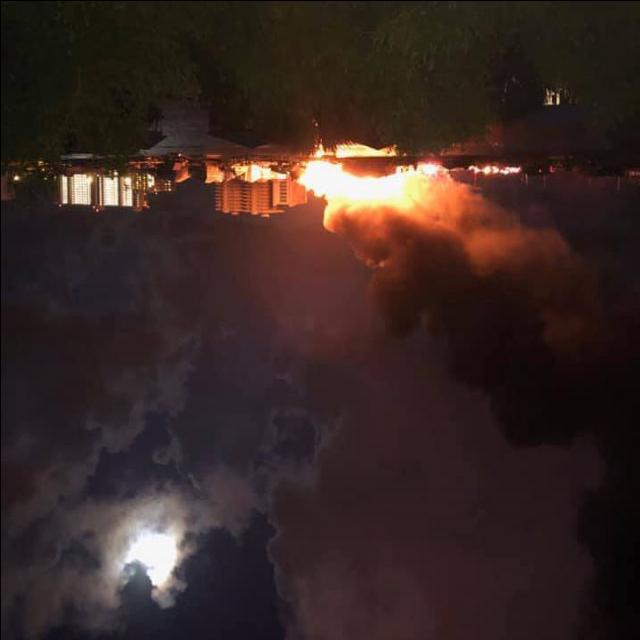Fire: (274, 139, 458, 245)
